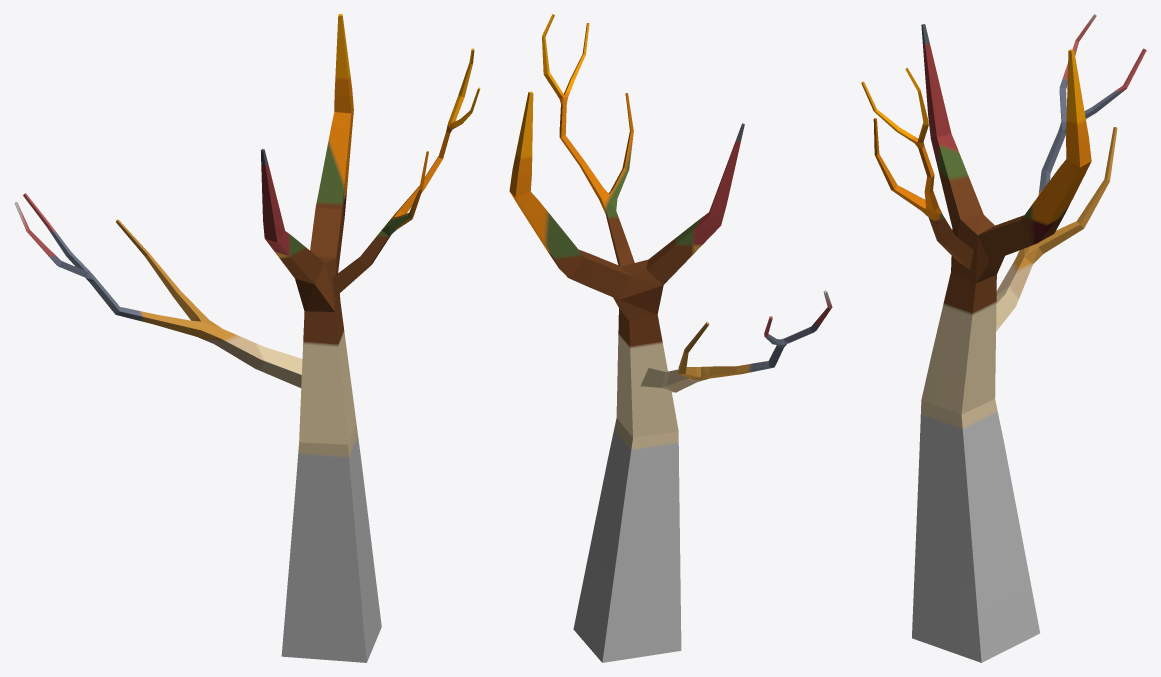
Rendered from Tree_16.fbx.
The picture shows the model from 3 angles, left to right: view 1: azimuth 30°, elevation 25°; view 2: azimuth 150°, elevation 25°; view 3: azimuth 270°, elevation 25°; orthographic projection. The views are drawn at different scales.
Parts seen in each view (by area): view 1: Tree_16; view 2: Tree_16; view 3: Tree_16.
Part boxes in pixels (<box>): Tree_16: <box>14,14,480,662</box>; Tree_16: <box>509,14,832,662</box>; Tree_16: <box>861,14,1146,662</box>.
Bounding box in the file's own units: 6.13 × 9.24 × 3.84.
